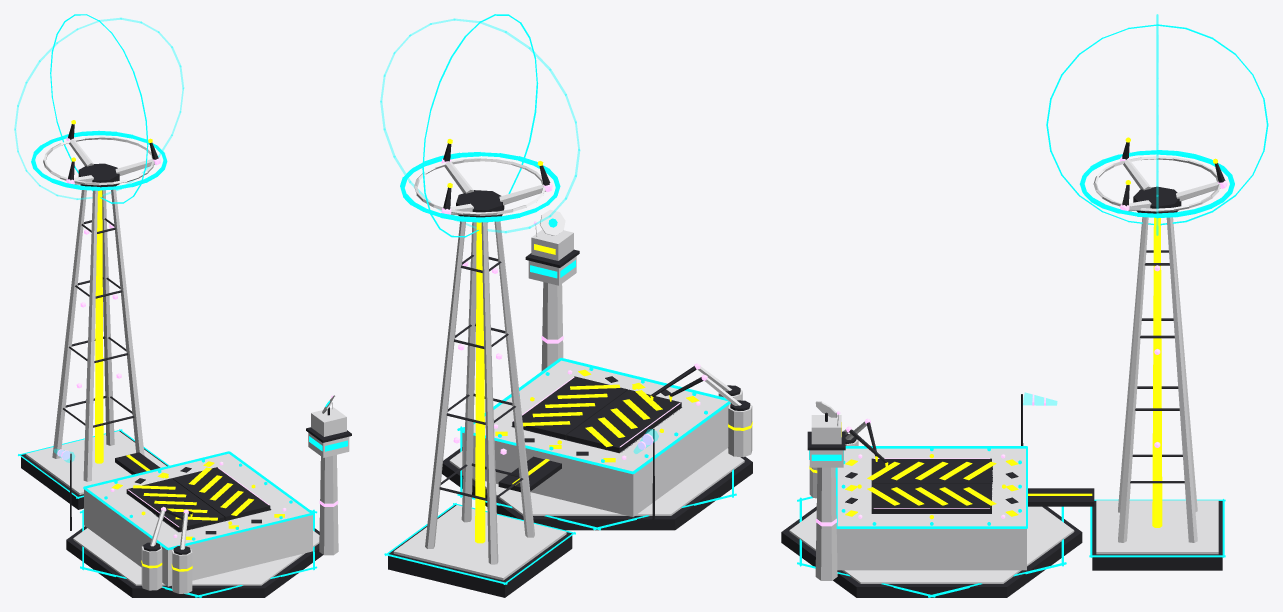
The model's file is HiveAerie.fbx.
3 views of the same model, side by side, from view 1: azimuth 30°, elevation 25°; view 2: azimuth 150°, elevation 25°; view 3: azimuth 270°, elevation 25° (orthographic). The views are drawn at different scales.
Visible parts, largest first — view 1: Aerie_Deck1, Aerie_Base, AerMk3_FoundationTop, Aerie_BaseTop, Aerie_Deck3, Aerie_Deck0, AerMk3_Strut2, Aerie_DoorL, AerMk3_Core, Aerie_DoorR, AerMk3_Strut1, AerMk3_Strut3 (+16 smaller); view 2: Aerie_Deck0, AerMk3_FoundationTop, Aerie_Deck3, Aerie_BaseTop, Aerie_Base, AerMk3_Foundation, Aerie_DoorL, AerMk3_Strut1, Aerie_DoorR, AerMk3_Core, AerMk3_Strut0, Aerie_Deck1 (+17 smaller); view 3: Aerie_Deck2, AerMk3_FoundationTop, Aerie_BaseTop, Aerie_Base, Aerie_Deck0, Aerie_Deck1, Aerie_DoorR, AerMk3_Core, AerMk3_Strut0, AerMk3_Foundation, AerMk3_Strut3, Aerie_DoorL (+13 smaller).
Part boxes in pixels (x1,y1,x2,y2): Aerie_Deck1: (156, 503, 312, 586); Aerie_Base: (66, 526, 322, 597); AerMk3_FoundationTop: (25, 431, 166, 494); Aerie_BaseTop: (73, 528, 319, 585); Aerie_Deck3: (99, 493, 177, 567); Aerie_Deck0: (84, 453, 243, 535); AerMk3_Strut2: (83, 190, 97, 481); Aerie_DoorL: (126, 478, 224, 531); AerMk3_Core: (95, 190, 103, 463); Aerie_DoorR: (172, 467, 270, 520); AerMk3_Strut1: (52, 190, 86, 458); AerMk3_Strut3: (111, 189, 144, 455); Aerie_Deck0: (462, 420, 651, 516); AerMk3_FoundationTop: (393, 505, 566, 580); Aerie_Deck3: (620, 407, 713, 503); Aerie_BaseTop: (449, 448, 744, 515); Aerie_Base: (442, 447, 752, 530); AerMk3_Foundation: (388, 505, 572, 597); Aerie_DoorL: (566, 389, 681, 452); AerMk3_Strut1: (481, 222, 498, 564); Aerie_DoorR: (512, 376, 627, 439); AerMk3_Core: (475, 222, 485, 543); AerMk3_Strut0: (425, 221, 465, 548); Aerie_Deck1: (544, 360, 730, 457); Aerie_Deck2: (871, 514, 991, 570); AerMk3_FoundationTop: (1096, 500, 1218, 554); Aerie_BaseTop: (789, 506, 1074, 583); Aerie_Base: (781, 506, 1082, 597); Aerie_Deck0: (992, 448, 1026, 570); Aerie_Deck1: (836, 448, 871, 570); Aerie_DoorR: (871, 484, 991, 513); AerMk3_Core: (1152, 217, 1162, 527); AerMk3_Strut0: (1166, 217, 1197, 542); AerMk3_Foundation: (1092, 501, 1222, 570); AerMk3_Strut3: (1118, 217, 1148, 542); Aerie_DoorL: (871, 458, 991, 483).
Size of the model in its own units: 3.08 by 5.71 by 4.86.
